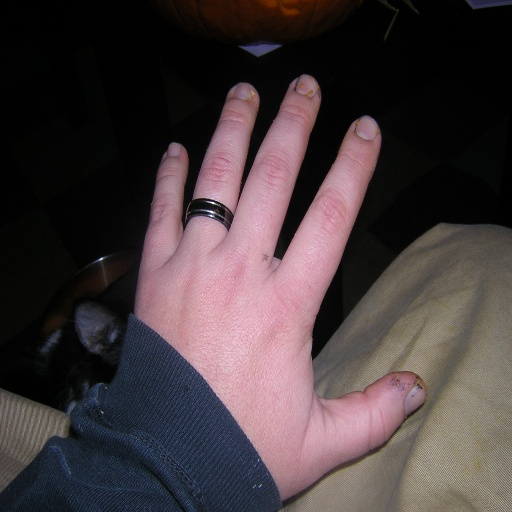hand: (133, 75, 427, 500)
